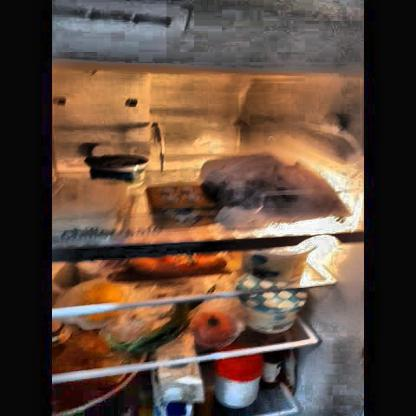butter: (147, 185, 215, 226)
carrot: (115, 256, 224, 278)
cheese: (53, 178, 126, 236)
green_chillies: (108, 306, 193, 350)
lemon: (78, 284, 124, 304)
milk: (154, 368, 202, 414)
tomato: (192, 311, 236, 344)
yoghurt: (239, 283, 306, 331), (245, 247, 306, 281), (87, 154, 147, 181)
